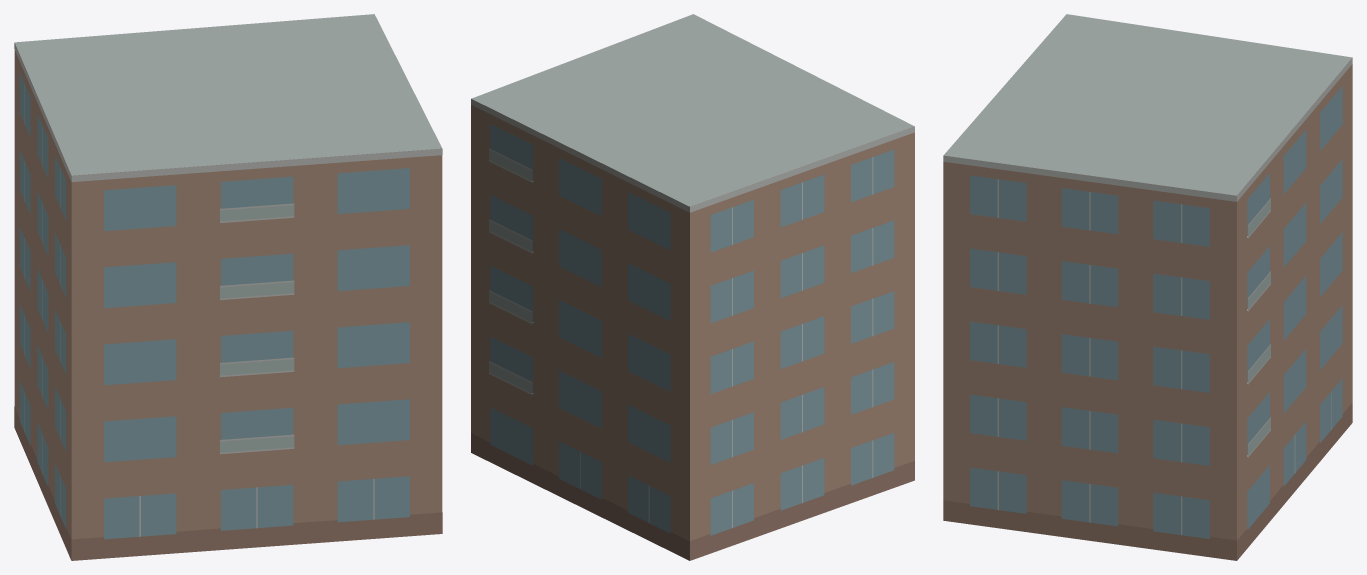
File: survey-upis-32535451.glb
3 views of the same model, side by side, from view 1: azimuth 30°, elevation 25°; view 2: azimuth 150°, elevation 25°; view 3: azimuth 270°, elevation 25° (orthographic). The views are drawn at different scales.
Visible parts, largest first — view 1: survey-upis-32535451.tmp; view 2: survey-upis-32535451.tmp; view 3: survey-upis-32535451.tmp.
Boxes of the visible parts, box(x1,y1,x2,y2) form: survey-upis-32535451.tmp: box(14, 14, 442, 560); survey-upis-32535451.tmp: box(471, 14, 914, 560); survey-upis-32535451.tmp: box(943, 14, 1352, 560).
Bounding box in the file's own units: 15.4 × 14.42 × 14.66.
